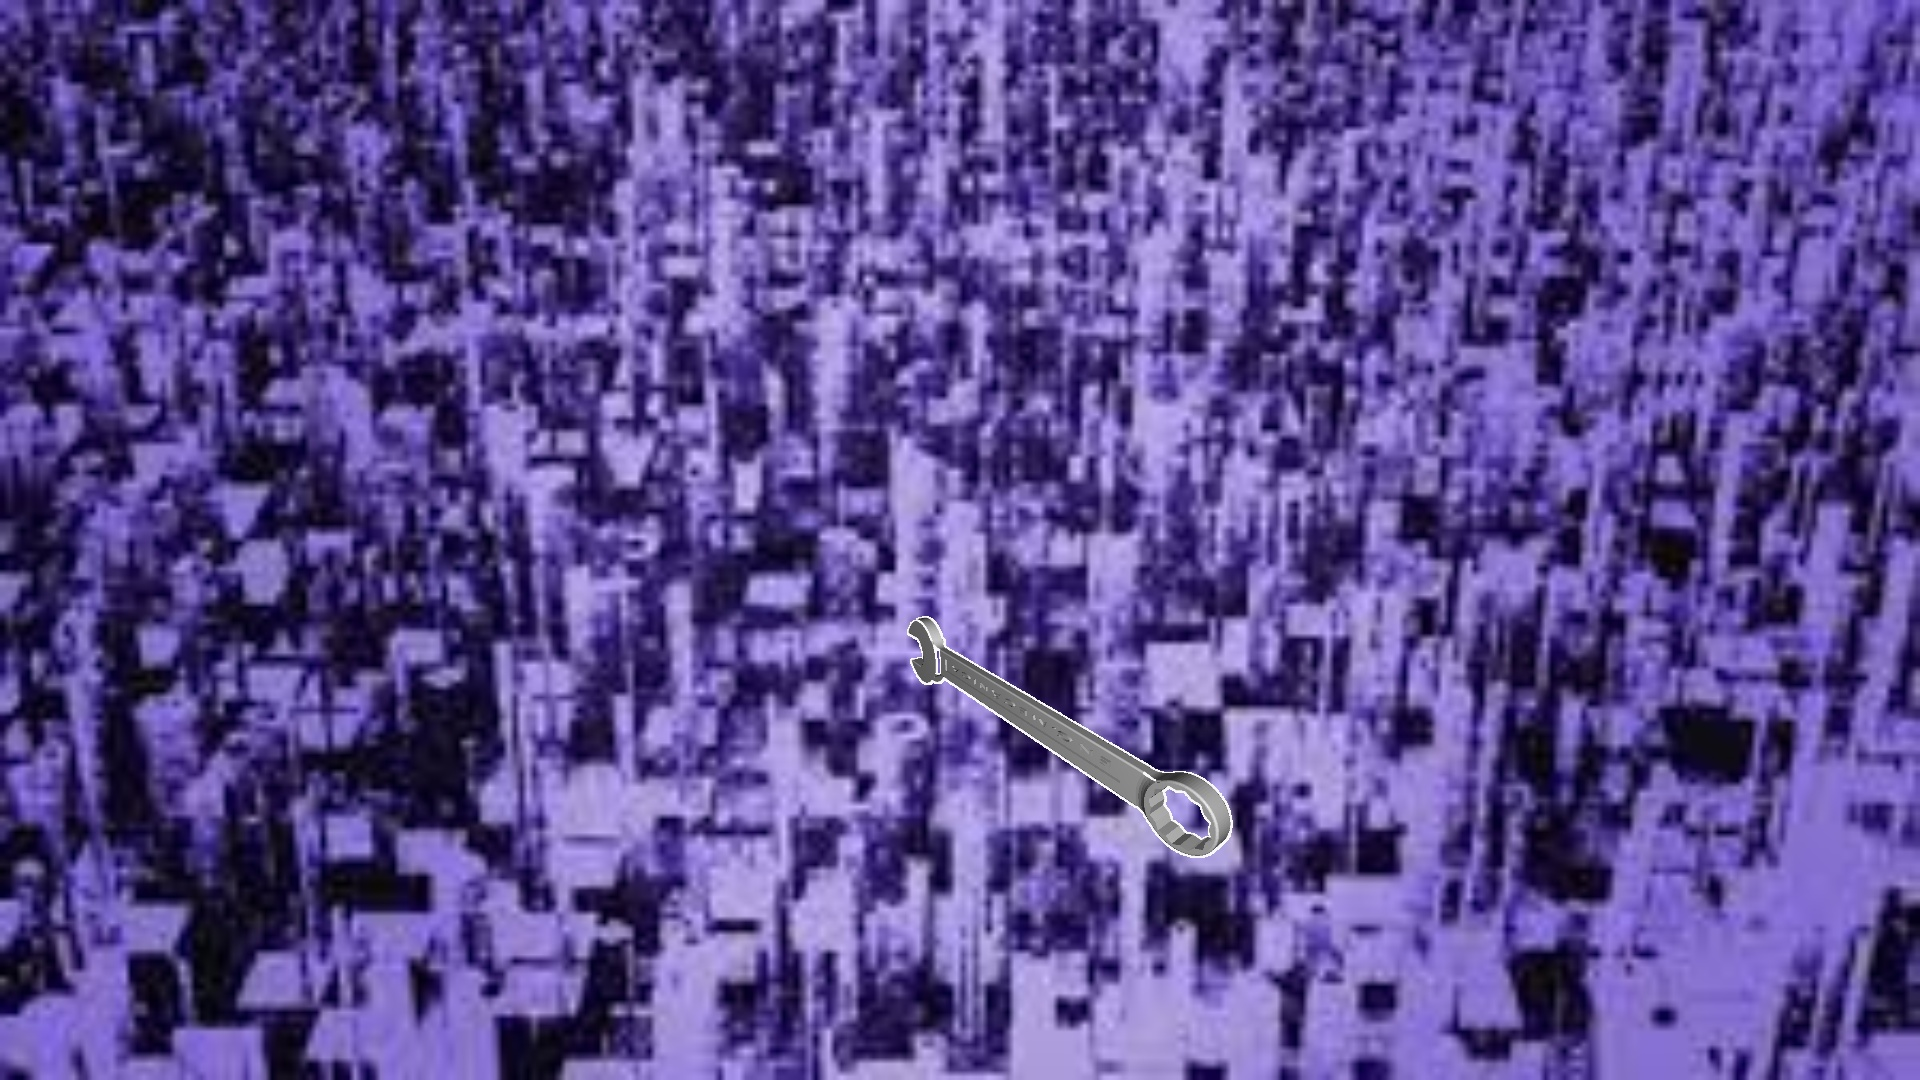Mixed Key: (907, 616, 1232, 857)
